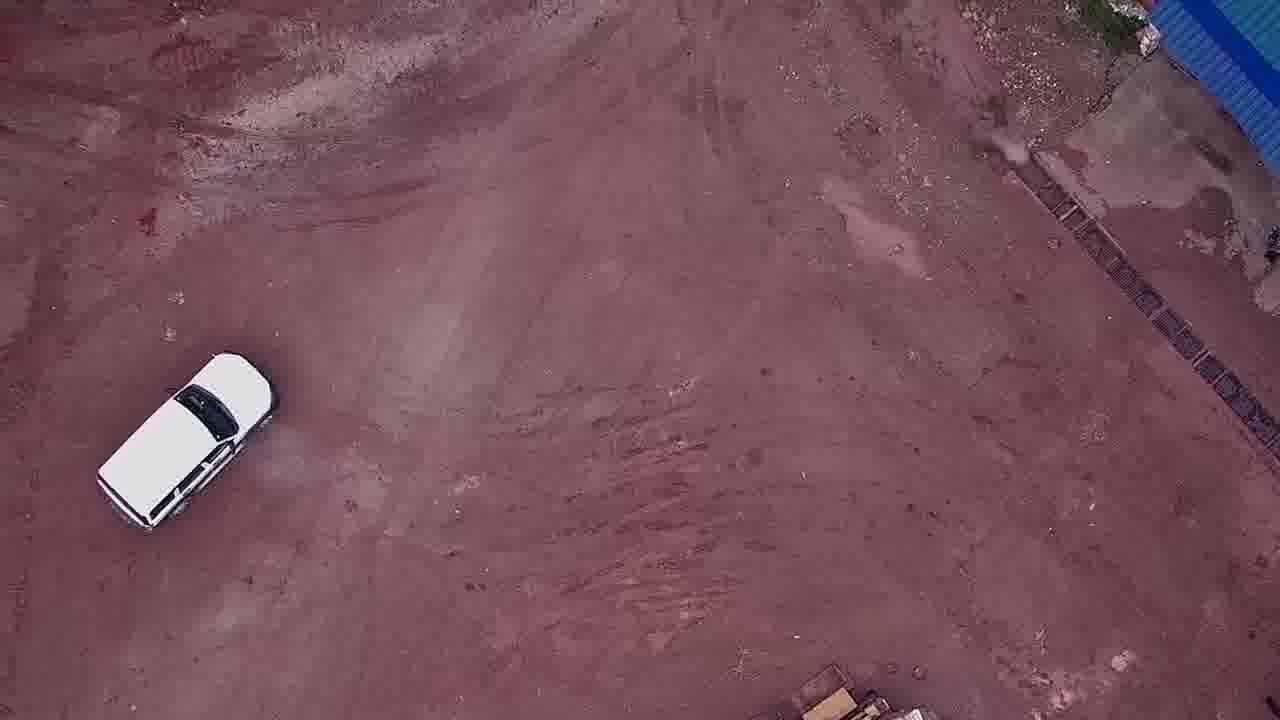light_motor_vehicle: (96, 347, 282, 537)
